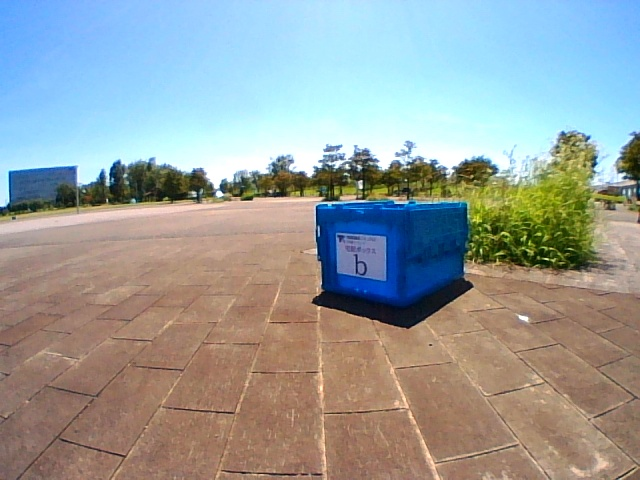blue_box: (318, 202, 461, 284)
tag_b: (339, 237, 387, 276)
